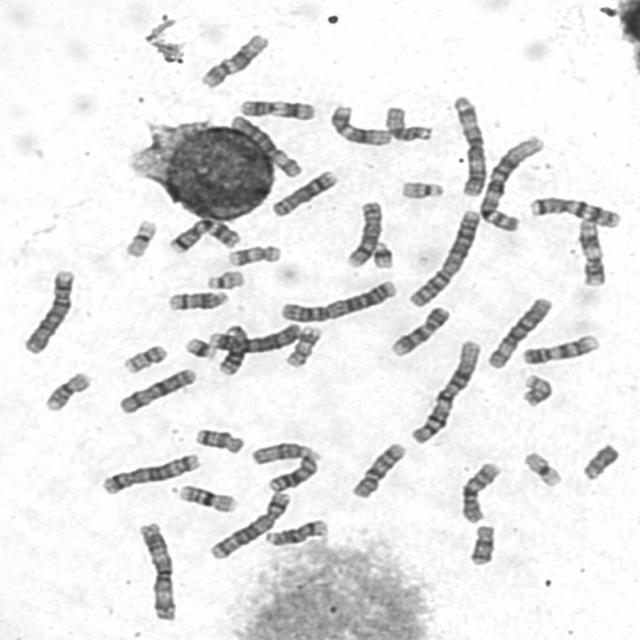A1: (406, 335, 484, 446), (474, 132, 547, 234)
A2: (404, 205, 482, 309), (275, 276, 399, 324)
A3: (134, 518, 178, 622), (449, 91, 488, 198)
B4: (18, 266, 76, 356), (205, 320, 304, 354)
B5: (206, 488, 292, 562), (98, 450, 202, 496)
C10: (347, 439, 407, 500), (456, 457, 502, 525)
C11: (573, 215, 607, 287), (235, 95, 316, 122)
C12: (196, 29, 272, 90), (325, 100, 393, 148)
C6: (484, 293, 554, 370), (226, 111, 304, 179)
C7: (524, 192, 623, 230), (164, 215, 242, 255)
C8: (267, 166, 339, 218), (341, 197, 385, 270)
C9: (386, 302, 452, 358), (518, 330, 602, 366)
D13: (263, 450, 320, 494), (214, 320, 251, 378)
D14: (261, 516, 330, 547), (163, 287, 231, 312)
D15: (381, 102, 434, 144), (246, 440, 321, 466)
E16: (41, 368, 94, 413), (174, 481, 238, 514)
E17: (281, 323, 323, 368), (223, 241, 283, 268)
E18: (190, 424, 245, 456), (464, 521, 496, 567)
F19: (518, 448, 564, 489), (120, 216, 158, 259)
F20: (118, 340, 168, 374), (518, 371, 554, 409)
G21: (181, 333, 218, 361), (368, 238, 395, 269)
G22: (396, 177, 446, 200), (202, 266, 246, 290)
X: (113, 364, 198, 416)
Y: (578, 439, 621, 482)
